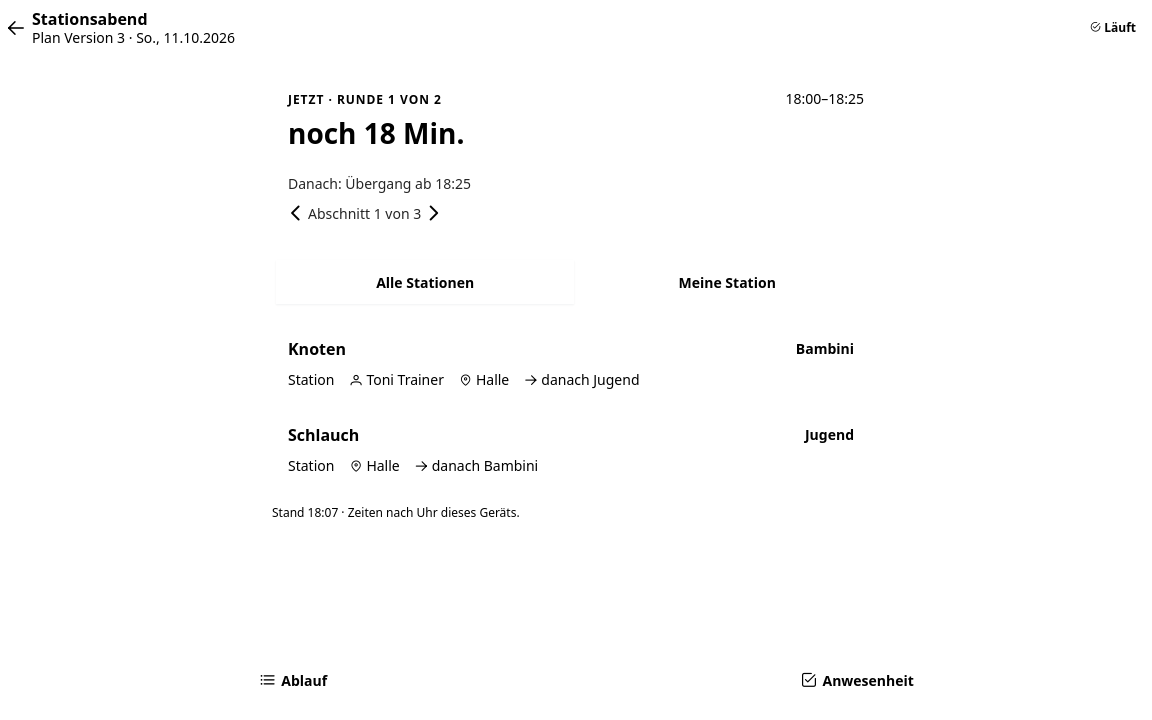
Test case: TrainingRun › browses sections without saving and returns to the clock
This screenshot has width=1152, height=720.
Click the button named "Nächster Abschnitt" at (433, 213), box left=425, top=202, right=441, bottom=224
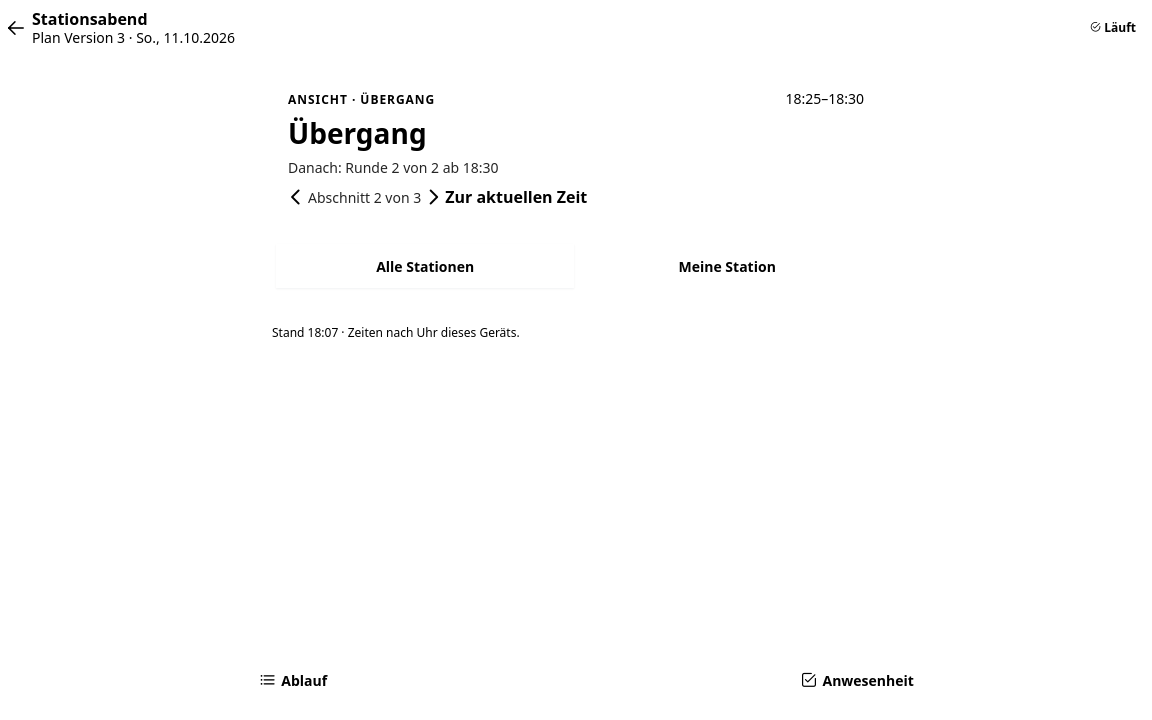
Click the button named "Nächster Abschnitt" at (433, 197), box left=425, top=186, right=441, bottom=208
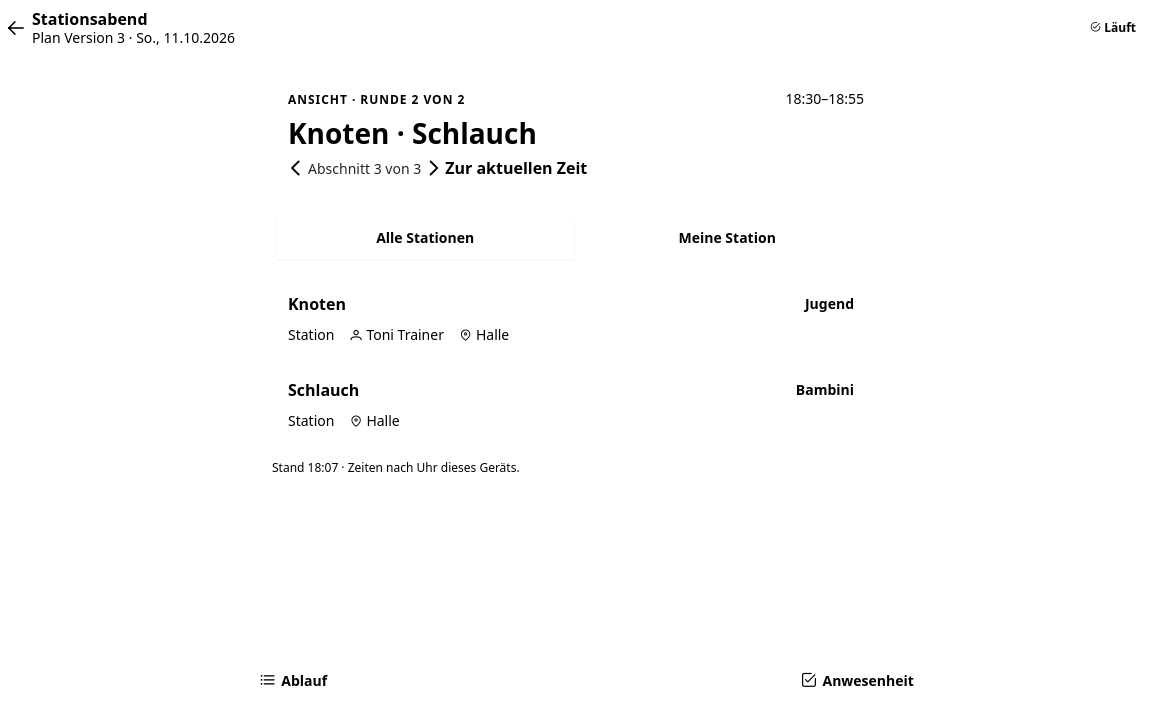
Expected: the element with class "run__hero" shows "Ansicht · Runde 2 von 2", left=288, top=91, right=465, bottom=108
Click the button "Zur aktuellen Zeit" at (516, 168), box left=445, top=157, right=587, bottom=179
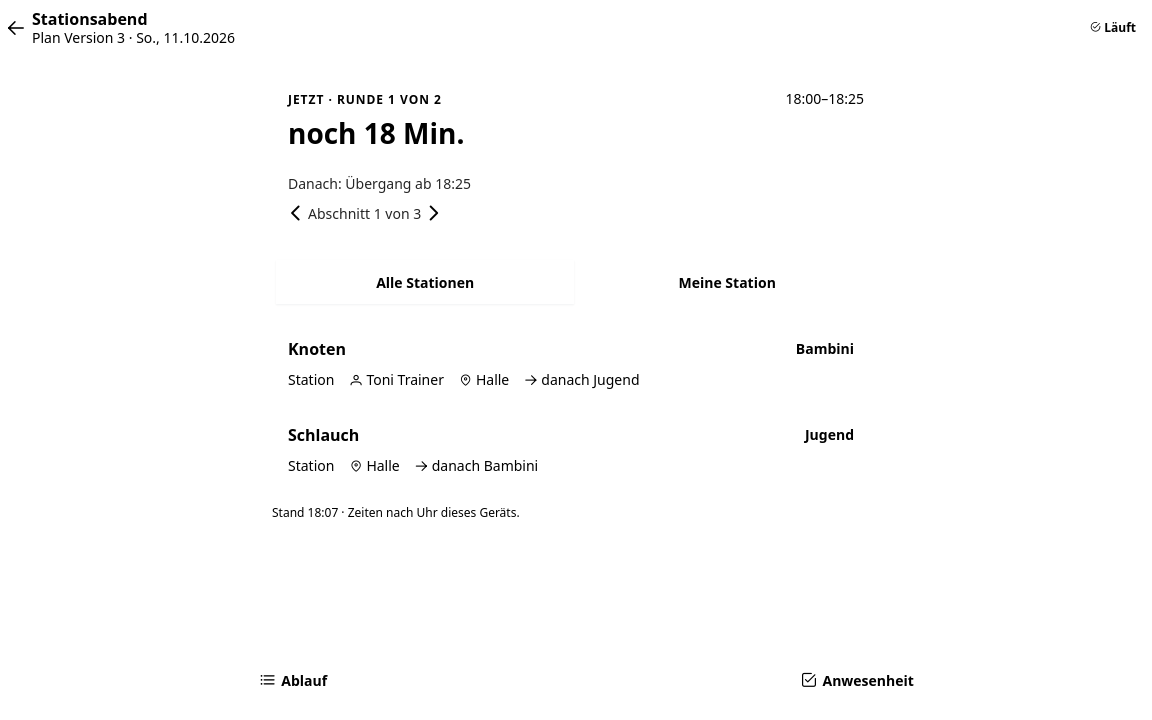
Expected: the element with class "run__hero" shows "Jetzt · Runde 1 von 2", left=288, top=91, right=442, bottom=108
